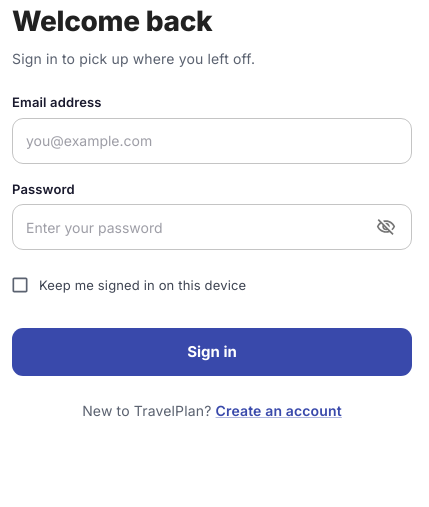
Test: SignInForm › shows a friendly message when the server rejects the credentials (401)
Type "maya@example.com" into the field labelled "Email address" at (212, 141), box [12, 118, 412, 164]
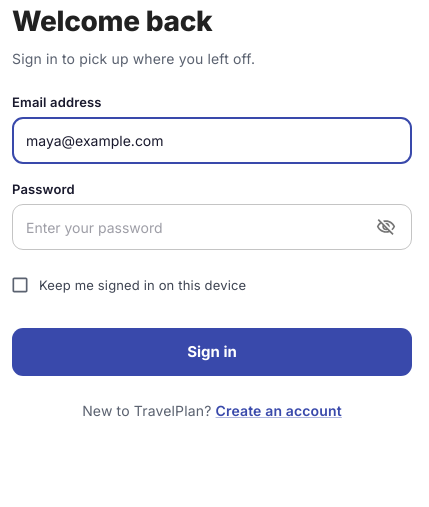
Type "wrong-password" into the password field labelled "Password" at (188, 227), box [12, 204, 363, 250]
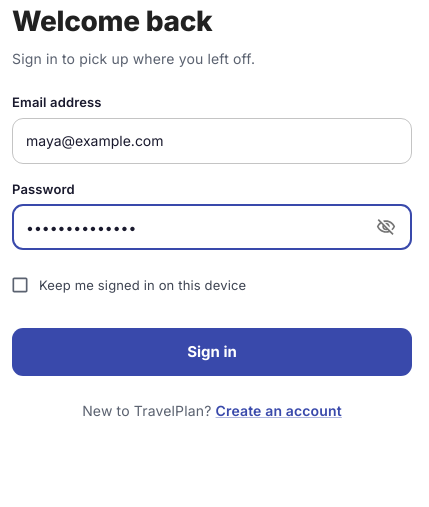
Click the button "Sign in" at (212, 352), box [12, 328, 412, 376]
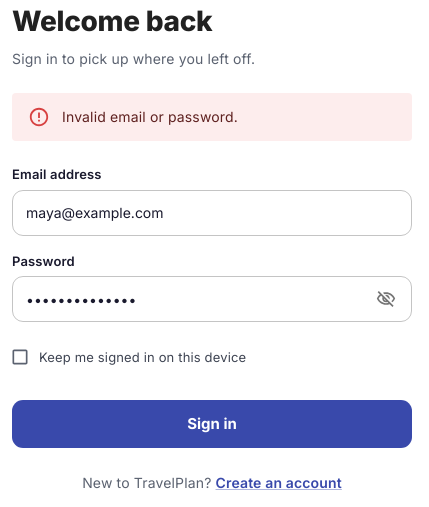
Result: the message reads "Invalid email or password." at [62, 108, 238, 125]
